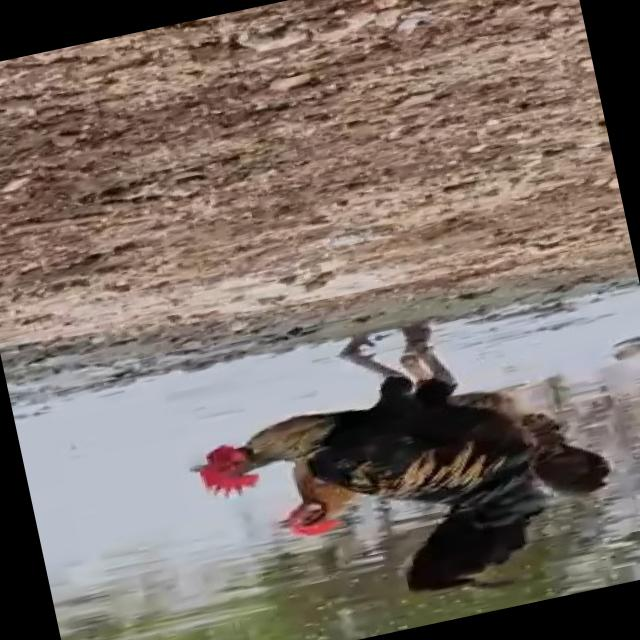drinking: (174, 286, 636, 630)
